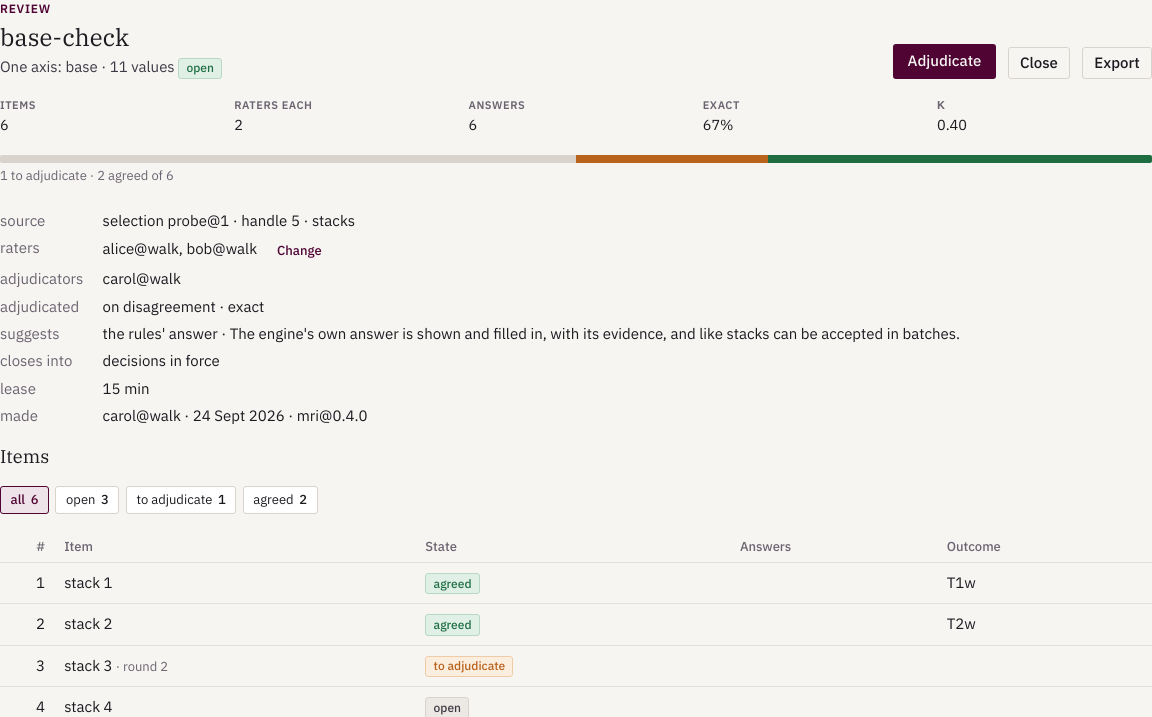
Test: the campaign's page › changes who rates from the raters line, reads the campaign again, and names whom the engine warns of
Click the button "Change": (299, 250) [267, 237, 332, 264]
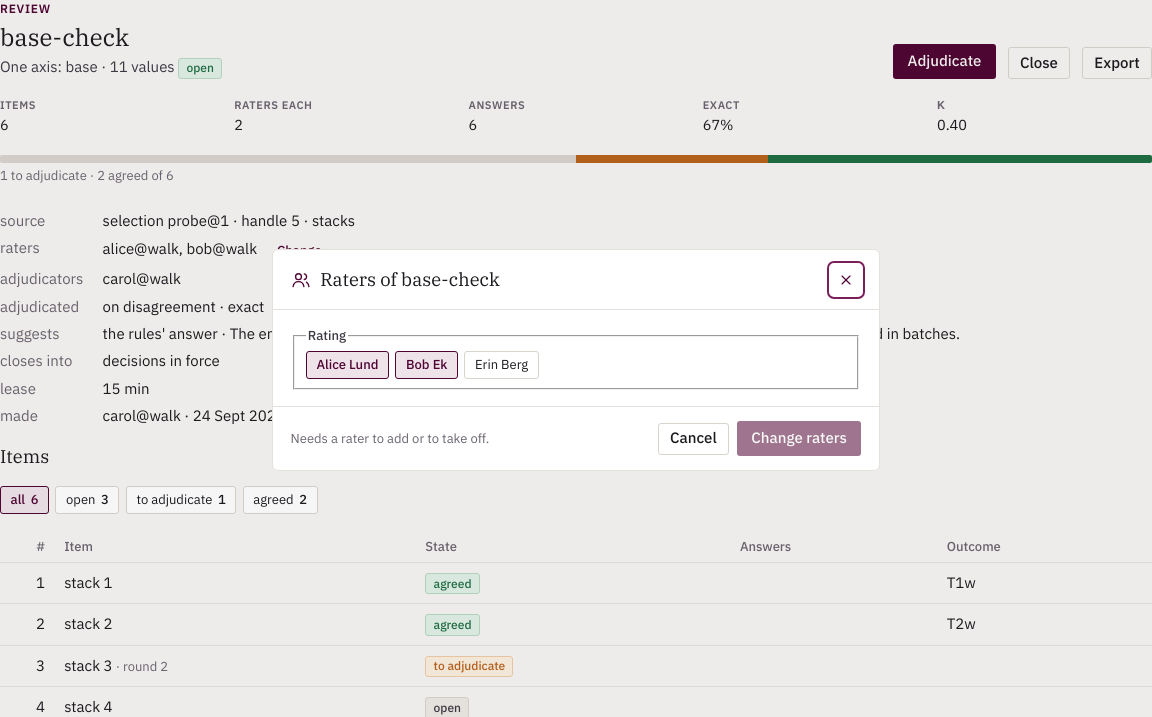
Now the button with class "opt" showing "Erin Berg" is shown
Click the button with class "opt" showing "Erin Berg": (502, 365) [464, 351, 539, 379]
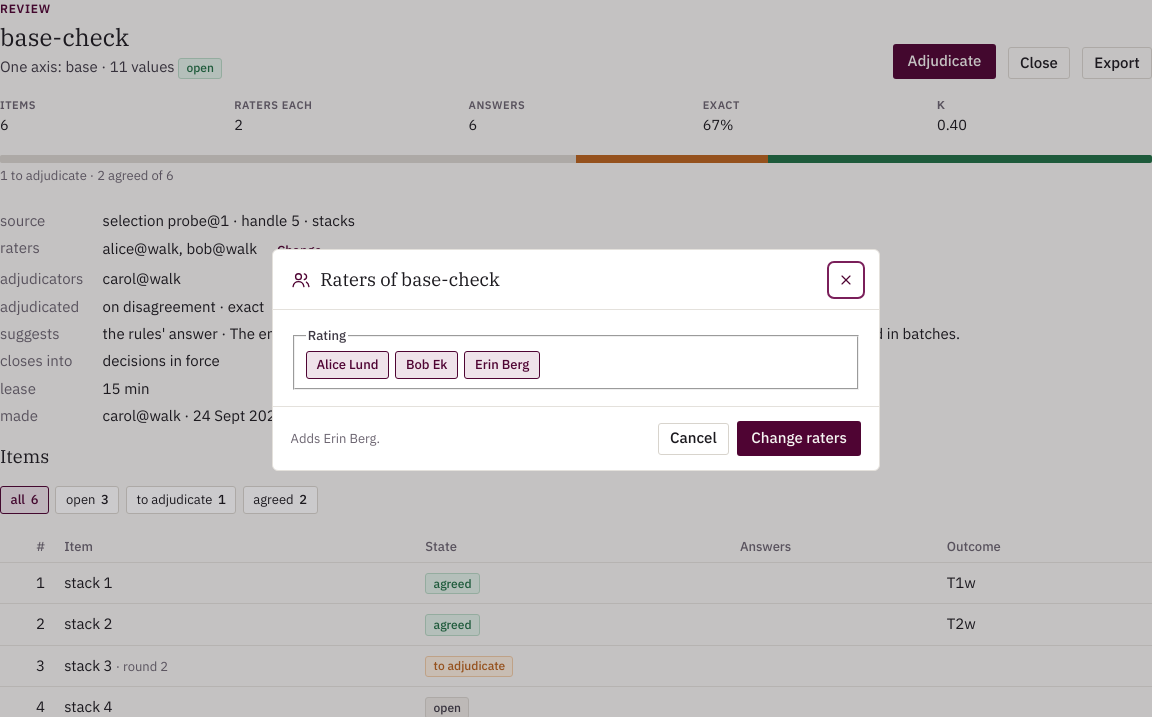
Now the button with class "opt" showing "Bob Ek" is shown
Click the button with class "opt" showing "Bob Ek": (427, 365) [395, 351, 458, 379]
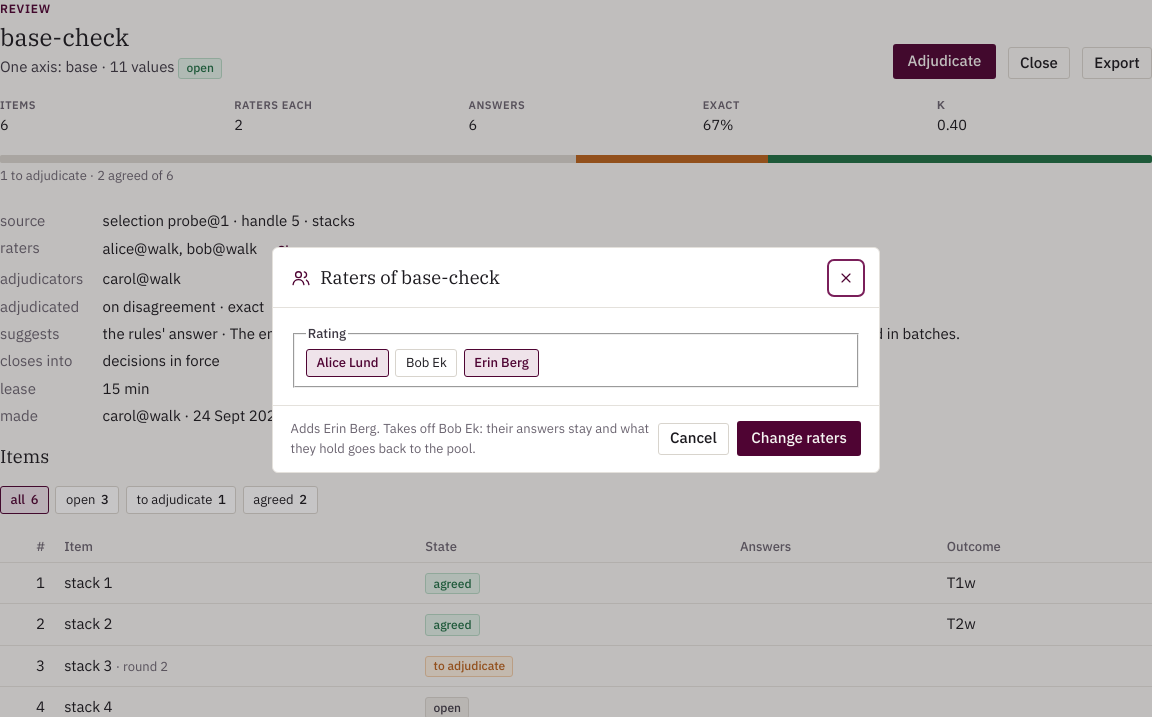
Now the button "Change raters" is shown
Click the button "Change raters": (799, 439) [737, 421, 861, 456]
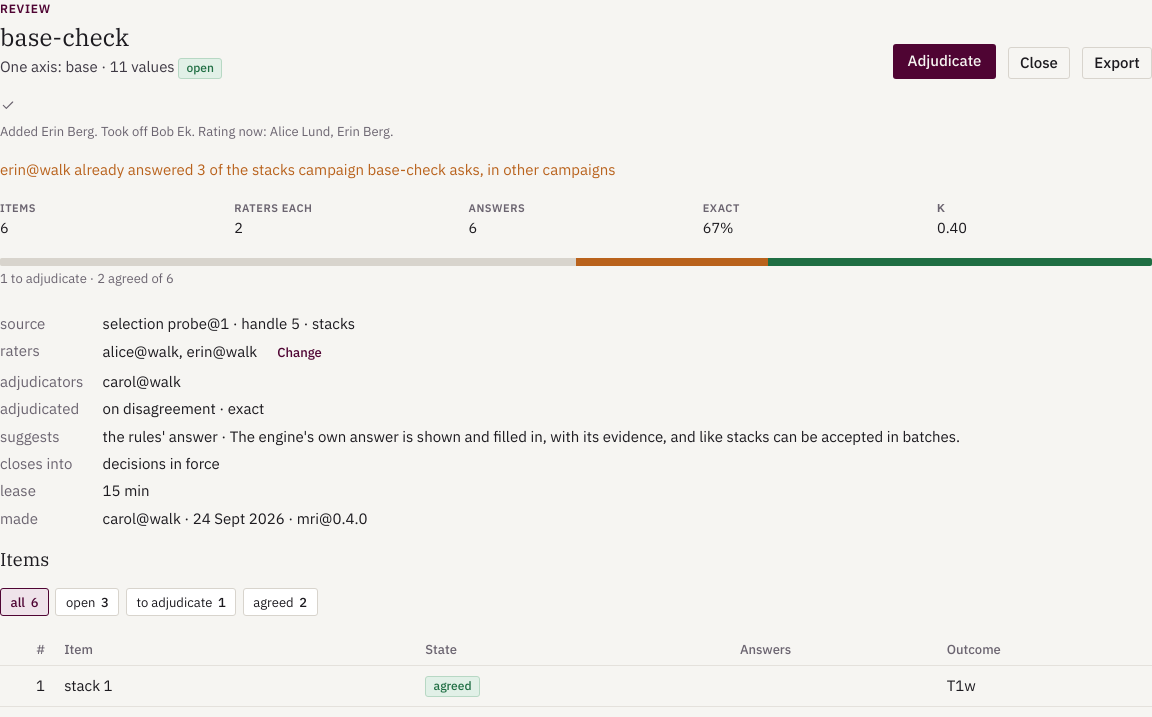
Now the text "Added Erin Berg. Took off Bob Ek. Rating now: Alice Lund, Erin Berg." is shown, box [0, 97, 394, 140]
Now the text "alice@walk, erin@walk" is shown, box [103, 342, 257, 361]
Now the text with class "warn" shows "erin@walk already answered 3 of the stacks campaign base-check asks, in other campaigns", box [0, 160, 616, 180]
